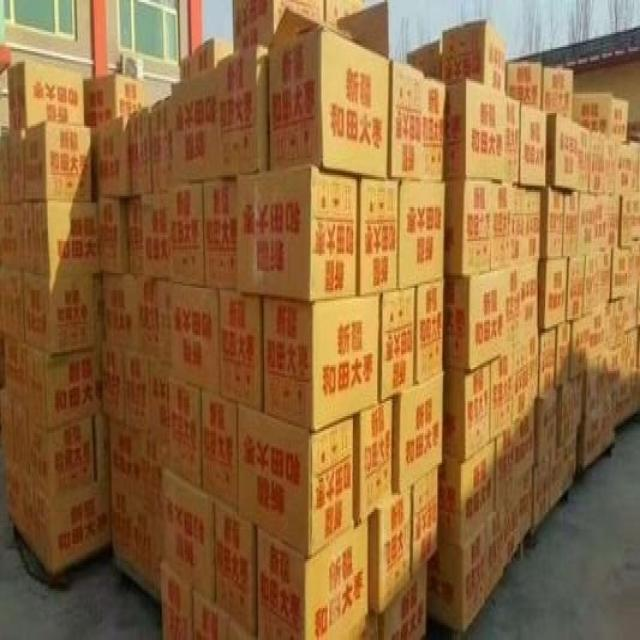Carton: (360, 21, 638, 587), (203, 28, 411, 638), (23, 68, 235, 604), (7, 58, 97, 273), (437, 367, 496, 621), (215, 41, 257, 171), (414, 469, 437, 574)
